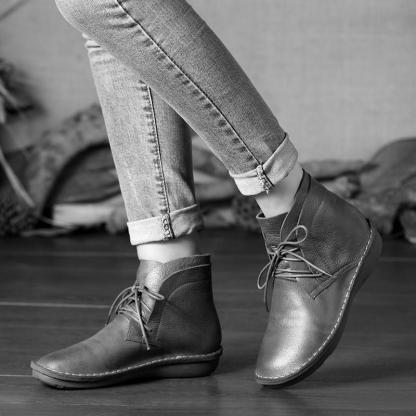ankle: (190, 305, 199, 315), (326, 231, 335, 240)
heel: (215, 346, 220, 354), (364, 221, 369, 225)
left_foot: (253, 181, 384, 386)
pinky: (302, 350, 309, 357), (52, 355, 55, 356)
right_foot: (30, 252, 224, 390)
toe: (259, 358, 264, 366), (62, 369, 67, 372)
